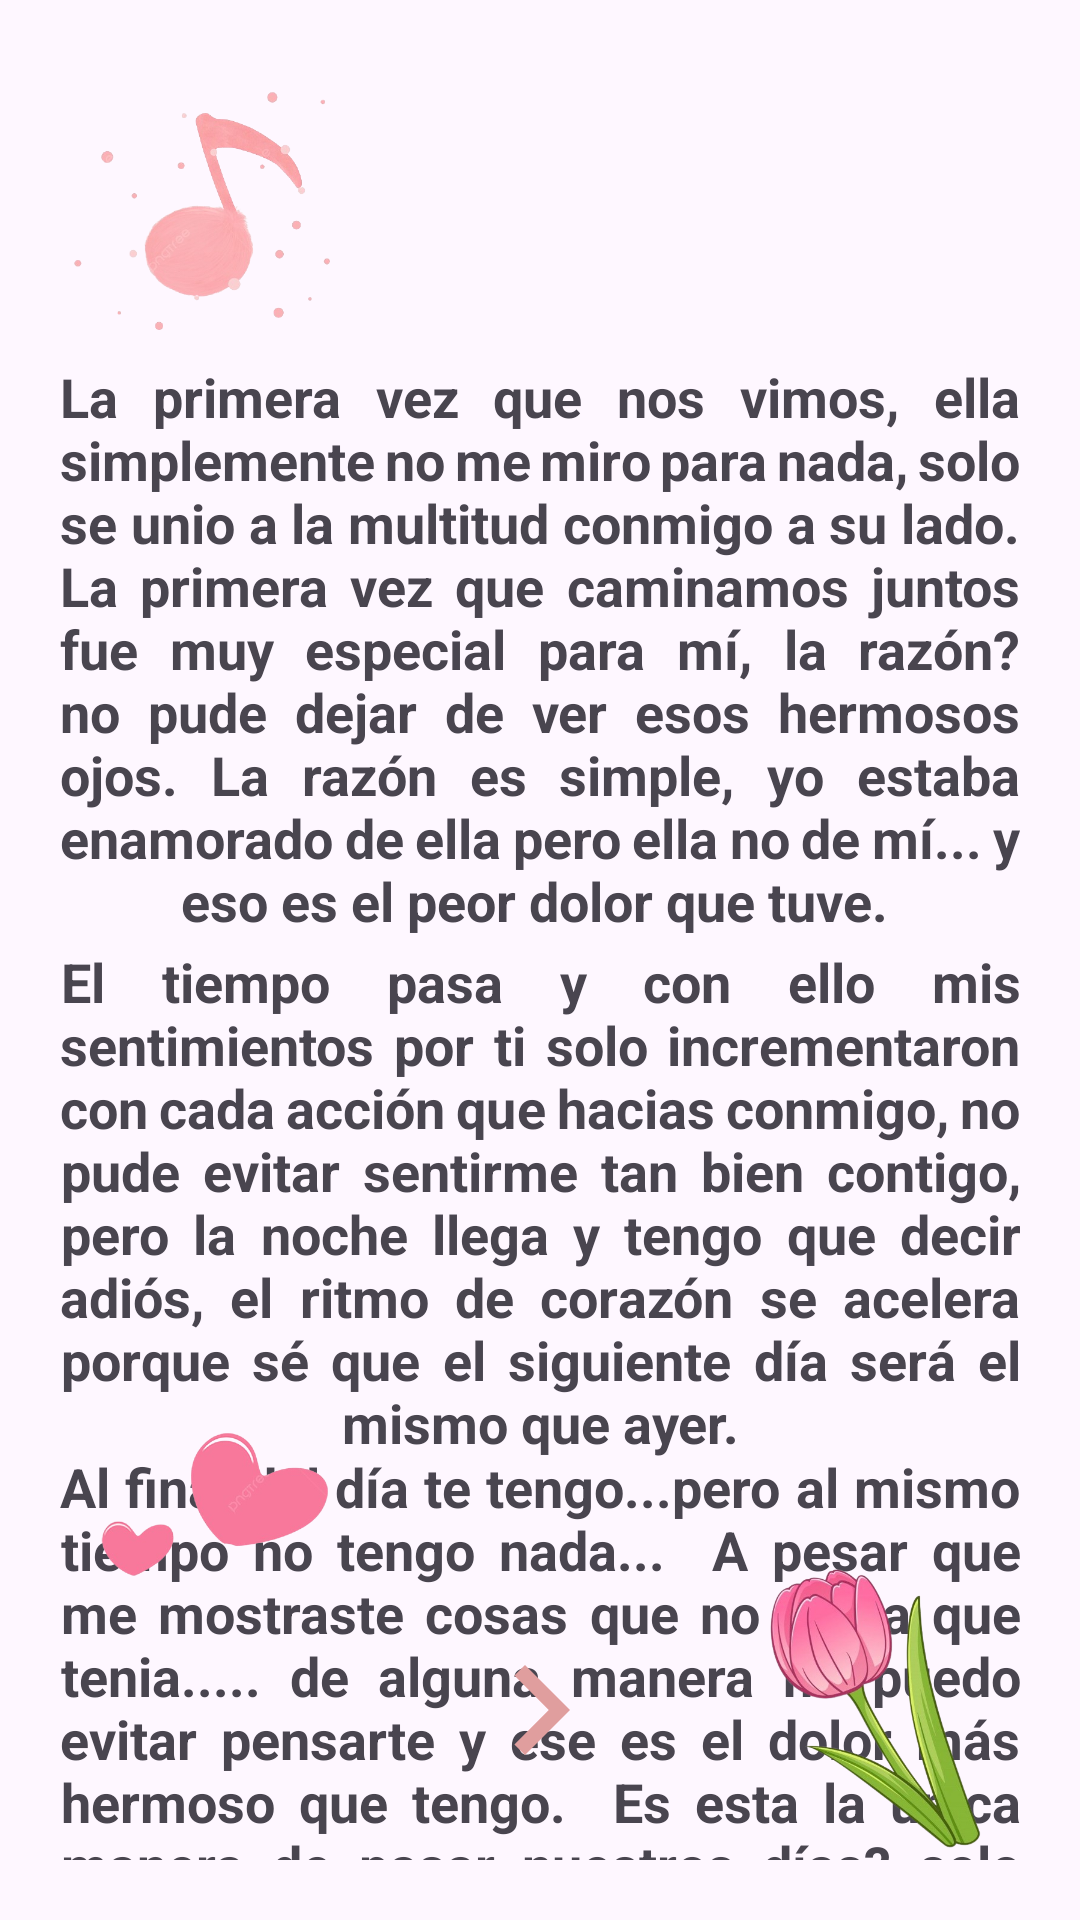

Where to tap for icons on this 1080×1920 app screen, as (x,y):
melodiarv: (202,211)
tulipanrv: (870,1710)
